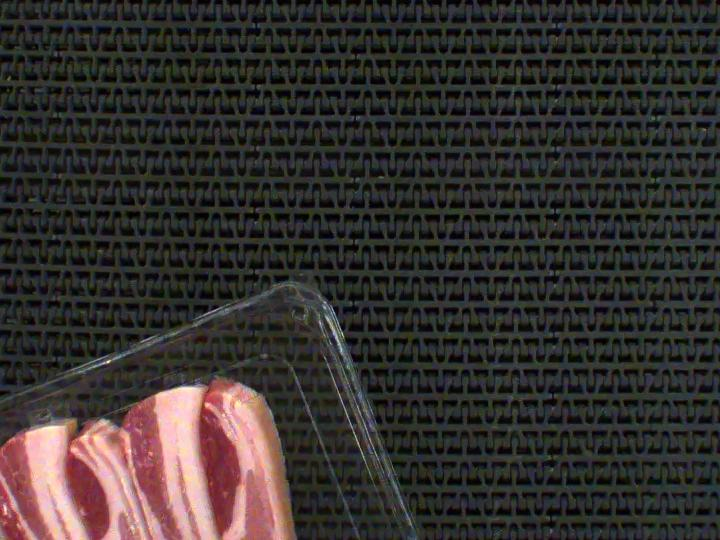packaging-error: (27, 400, 74, 430)
